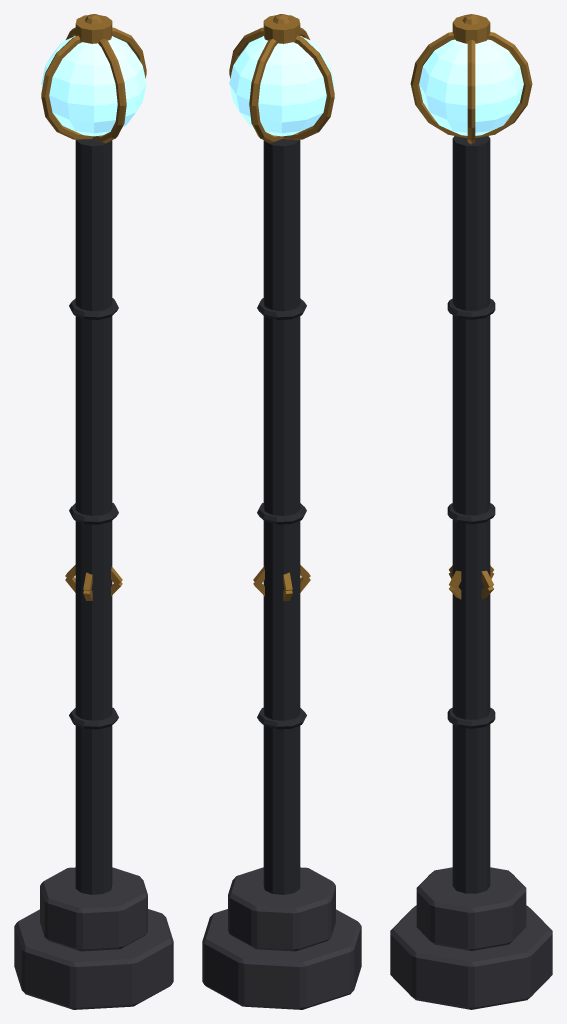
The model's file is SM_Lamp_DvergrTech_08.fbx.
3 views of the same model, side by side, from view 1: azimuth 30°, elevation 25°; view 2: azimuth 150°, elevation 25°; view 3: azimuth 270°, elevation 25° (orthographic).
Parts seen in each view (by area): view 1: SM_Lamp_DvergrTech_08_Post, SM_Lamp_DvergrTech_08_BaseStep1, SM_Lamp_DvergrTech_08_BaseStep2, SM_Lamp_DvergrTech_08_Globe, SM_Lamp_DvergrTech_08_Strap1, SM_Lamp_DvergrTech_08_Strap2, SM_Lamp_DvergrTech_08_Cap, SM_Lamp_DvergrTech_08_Rivet1, SM_Lamp_DvergrTech_08_Rivet0, SM_Lamp_DvergrTech_08_Rivet2; view 2: SM_Lamp_DvergrTech_08_Post, SM_Lamp_DvergrTech_08_BaseStep1, SM_Lamp_DvergrTech_08_BaseStep2, SM_Lamp_DvergrTech_08_Globe, SM_Lamp_DvergrTech_08_Strap1, SM_Lamp_DvergrTech_08_Strap2, SM_Lamp_DvergrTech_08_Cap, SM_Lamp_DvergrTech_08_Rivet1, SM_Lamp_DvergrTech_08_Rivet0, SM_Lamp_DvergrTech_08_Rivet2; view 3: SM_Lamp_DvergrTech_08_Post, SM_Lamp_DvergrTech_08_BaseStep1, SM_Lamp_DvergrTech_08_Globe, SM_Lamp_DvergrTech_08_BaseStep2, SM_Lamp_DvergrTech_08_Strap2, SM_Lamp_DvergrTech_08_Strap1, SM_Lamp_DvergrTech_08_Cap, SM_Lamp_DvergrTech_08_Rivet0, SM_Lamp_DvergrTech_08_Rivet2, SM_Lamp_DvergrTech_08_Rivet1.
Part boxes in pixels (bbox=[...]): SM_Lamp_DvergrTech_08_Post: bbox=[75, 139, 112, 894]; SM_Lamp_DvergrTech_08_BaseStep1: bbox=[14, 909, 173, 1009]; SM_Lamp_DvergrTech_08_BaseStep2: bbox=[40, 867, 147, 951]; SM_Lamp_DvergrTech_08_Globe: bbox=[41, 36, 146, 136]; SM_Lamp_DvergrTech_08_Strap1: bbox=[41, 27, 146, 139]; SM_Lamp_DvergrTech_08_Strap2: bbox=[66, 27, 126, 143]; SM_Lamp_DvergrTech_08_Cap: bbox=[75, 15, 112, 43]; SM_Lamp_DvergrTech_08_Rivet1: bbox=[69, 503, 118, 524]; SM_Lamp_DvergrTech_08_Rivet0: bbox=[69, 707, 118, 729]; SM_Lamp_DvergrTech_08_Rivet2: bbox=[69, 298, 118, 319]; SM_Lamp_DvergrTech_08_Post: bbox=[263, 139, 300, 894]; SM_Lamp_DvergrTech_08_BaseStep1: bbox=[202, 909, 361, 1009]; SM_Lamp_DvergrTech_08_BaseStep2: bbox=[228, 867, 335, 951]; SM_Lamp_DvergrTech_08_Globe: bbox=[229, 36, 334, 136]; SM_Lamp_DvergrTech_08_Strap1: bbox=[229, 27, 334, 139]; SM_Lamp_DvergrTech_08_Strap2: bbox=[249, 27, 309, 143]; SM_Lamp_DvergrTech_08_Cap: bbox=[263, 15, 300, 43]; SM_Lamp_DvergrTech_08_Rivet1: bbox=[257, 503, 306, 524]; SM_Lamp_DvergrTech_08_Rivet0: bbox=[257, 707, 306, 729]; SM_Lamp_DvergrTech_08_Rivet2: bbox=[257, 298, 306, 319]; SM_Lamp_DvergrTech_08_Post: bbox=[452, 136, 490, 893]; SM_Lamp_DvergrTech_08_BaseStep1: bbox=[390, 905, 552, 1009]; SM_Lamp_DvergrTech_08_Globe: bbox=[419, 39, 523, 135]; SM_Lamp_DvergrTech_08_BaseStep2: bbox=[416, 867, 526, 950]; SM_Lamp_DvergrTech_08_Strap2: bbox=[410, 32, 532, 138]; SM_Lamp_DvergrTech_08_Strap1: bbox=[467, 39, 475, 144]; SM_Lamp_DvergrTech_08_Cap: bbox=[452, 15, 490, 43]; SM_Lamp_DvergrTech_08_Rivet0: bbox=[447, 707, 495, 728]; SM_Lamp_DvergrTech_08_Rivet2: bbox=[447, 298, 495, 319]; SM_Lamp_DvergrTech_08_Rivet1: bbox=[447, 503, 495, 524].
Bounding box in the file's own units: 0.4323 × 2.82 × 0.4323.
